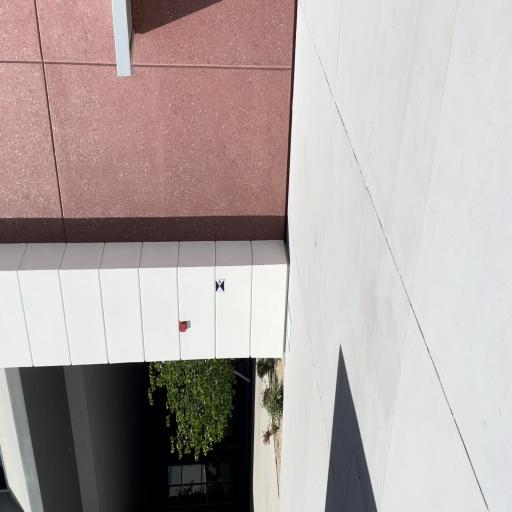target9: (215, 280, 225, 292)
